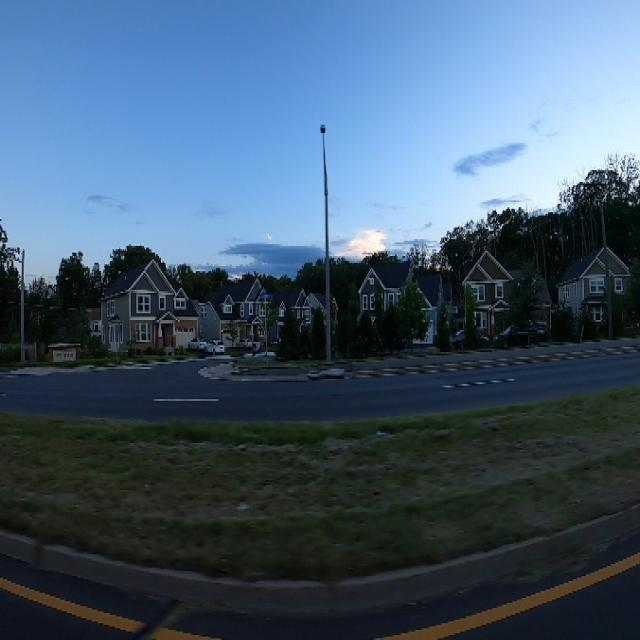cars: (187, 328, 207, 362), (208, 337, 226, 360)
